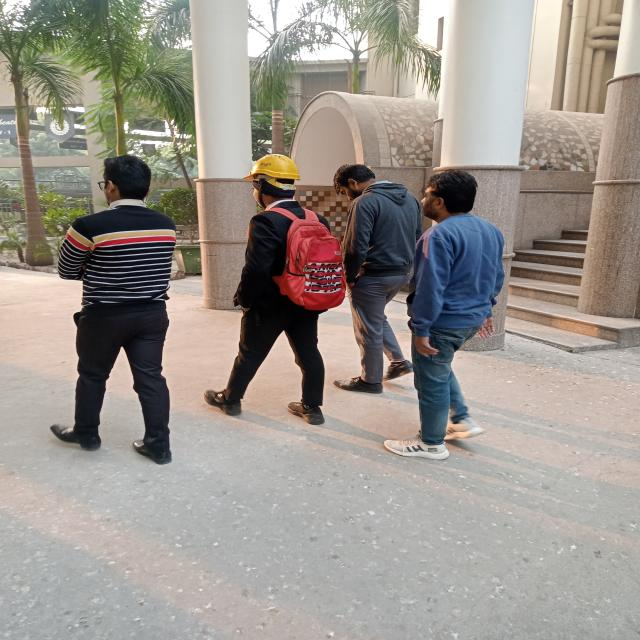no jacket: (214, 152, 335, 426)
unsafe: (54, 154, 187, 463), (407, 169, 507, 460), (333, 161, 417, 394)
